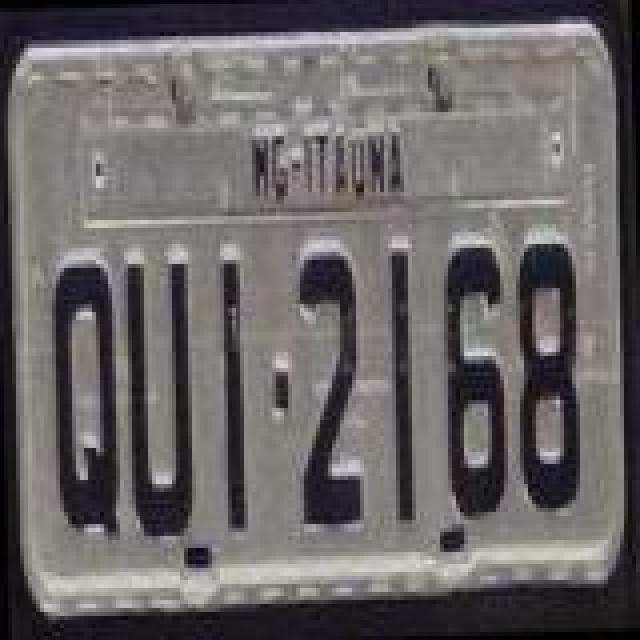1: (388, 242, 420, 526), (216, 256, 248, 536)
2: (292, 248, 364, 536)
6: (440, 242, 512, 526)
8: (514, 238, 590, 514)
Q: (50, 258, 126, 542)
U: (122, 256, 198, 544)
